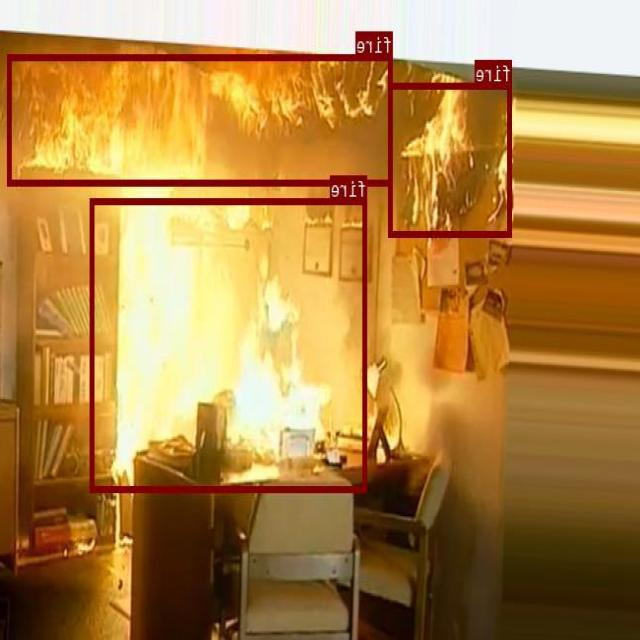fire: (91, 197, 368, 492), (8, 54, 394, 184), (390, 82, 512, 236)
